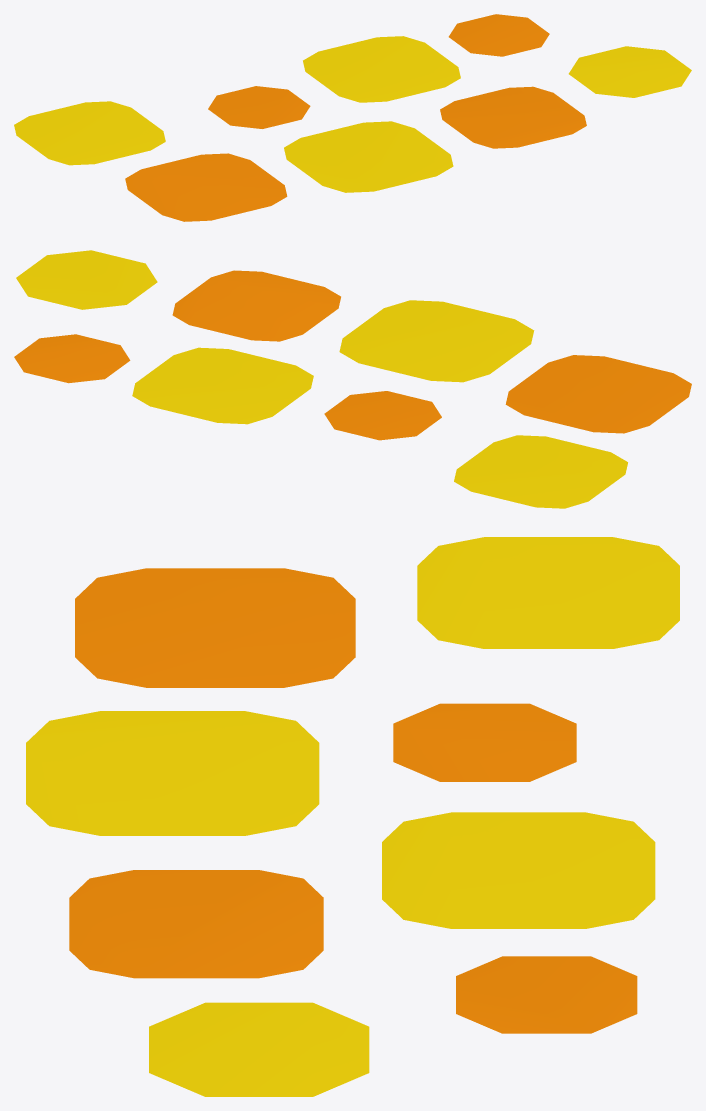
Rendered from PathNewLow.fbx.
3 renders of one model, top to bottom at view 1: azimuth 30°, elevation 25°; view 2: azimuth 150°, elevation 25°; view 3: azimuth 270°, elevation 25°, orthographic. The views are drawn at different scales.
Parts seen in each view (by area): view 1: Path; view 2: Path; view 3: Path.
Part boxes in pixels (left/top/right/bottom): Path: left=14, top=14, right=691, bottom=221; Path: left=14, top=250, right=691, bottom=508; Path: left=26, top=537, right=679, bottom=1096.
Bounding box in the file's own units: 5.11 × 0.0154 × 2.52.
